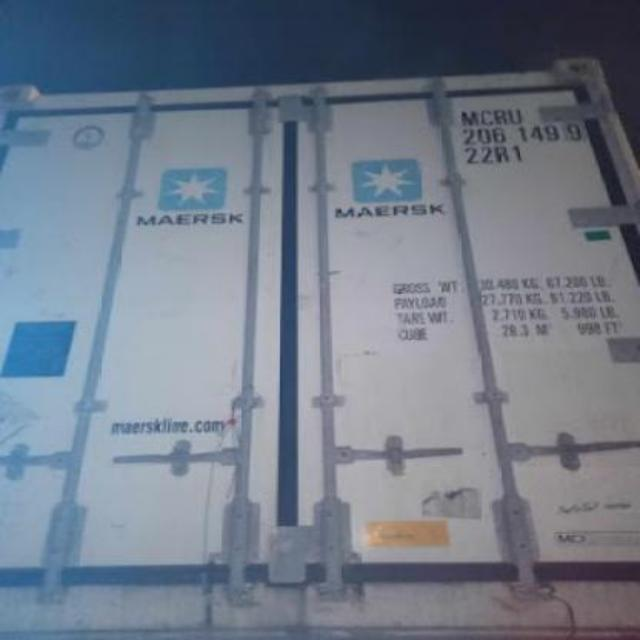0: (478, 127, 494, 145)
1: (516, 126, 532, 140)
2: (460, 127, 480, 145)
4: (528, 124, 548, 146)
6: (492, 125, 510, 145)
9: (566, 121, 584, 142), (546, 123, 560, 141)
C: (478, 109, 496, 127)
M: (458, 108, 479, 126)
R: (490, 108, 510, 124)
U: (508, 106, 526, 126)
